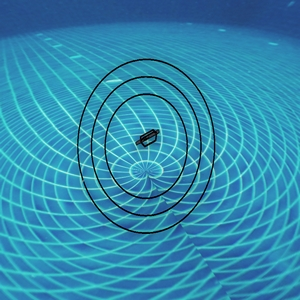circle: (73, 54, 226, 238)
